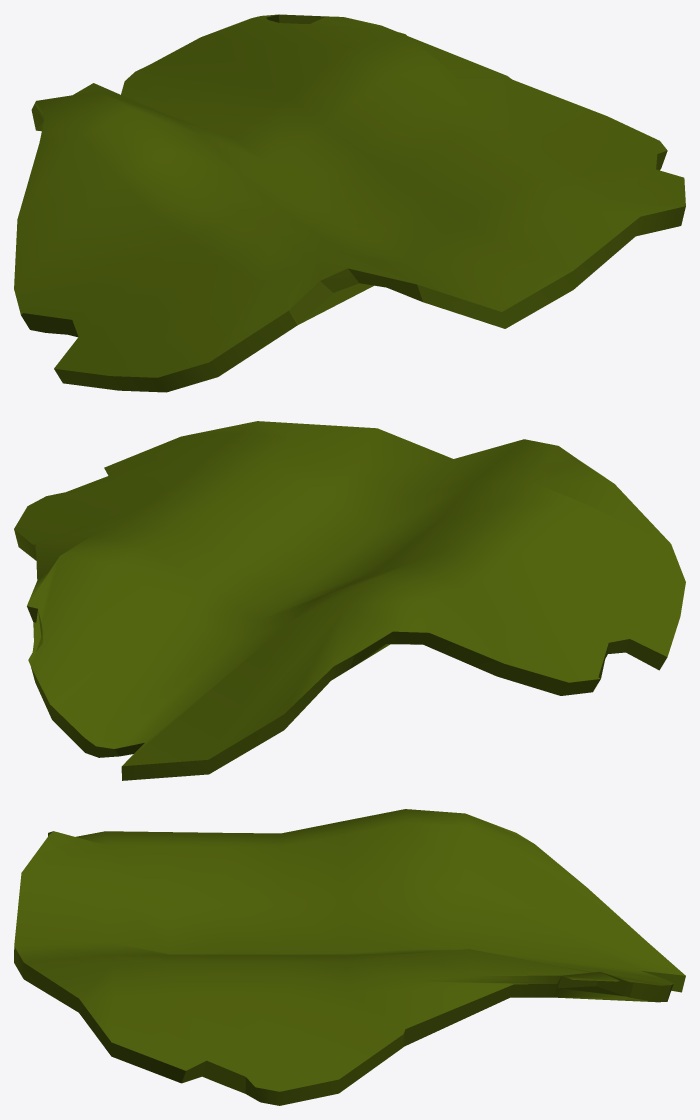
The model's file is BasicLeaf_HunterGreen.obj.
The picture shows the model from 3 angles, top to bottom: view 1: azimuth 30°, elevation 25°; view 2: azimuth 150°, elevation 25°; view 3: azimuth 270°, elevation 25°; orthographic projection. The views are drawn at different scales.
Visible parts, largest first — view 1: BasicLeaf_HunterGreen; view 2: BasicLeaf_HunterGreen; view 3: BasicLeaf_HunterGreen.
Boxes of the visible parts, x1,y1,x2,y2 form: BasicLeaf_HunterGreen: (14,14,685,392); BasicLeaf_HunterGreen: (14,421,685,780); BasicLeaf_HunterGreen: (14,809,685,1105).
Bounding box in the file's own units: 6.78 × 1.4 × 6.94.
